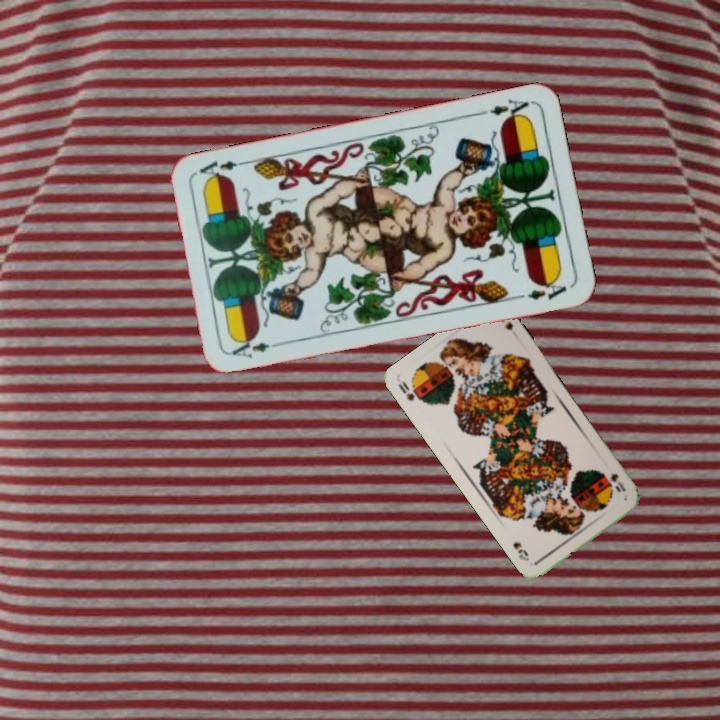EA: (475, 94, 532, 124), (228, 337, 287, 361)
SO: (394, 377, 417, 404), (606, 469, 628, 495)
